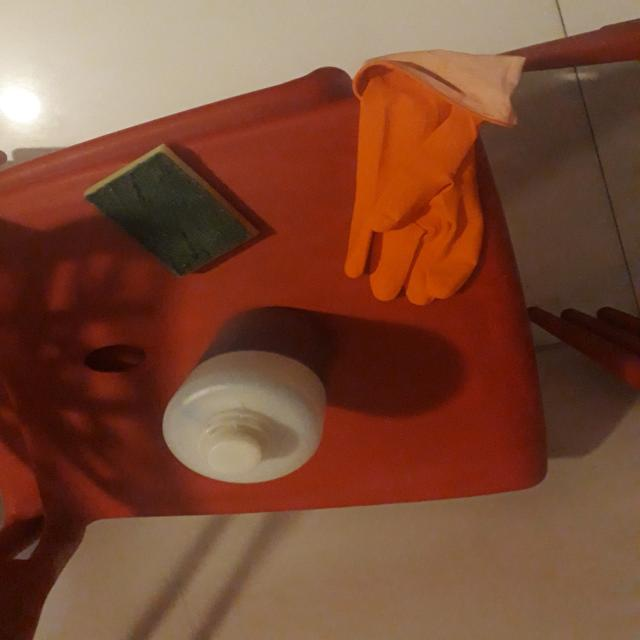gloved_hand: (327, 34, 504, 312)
